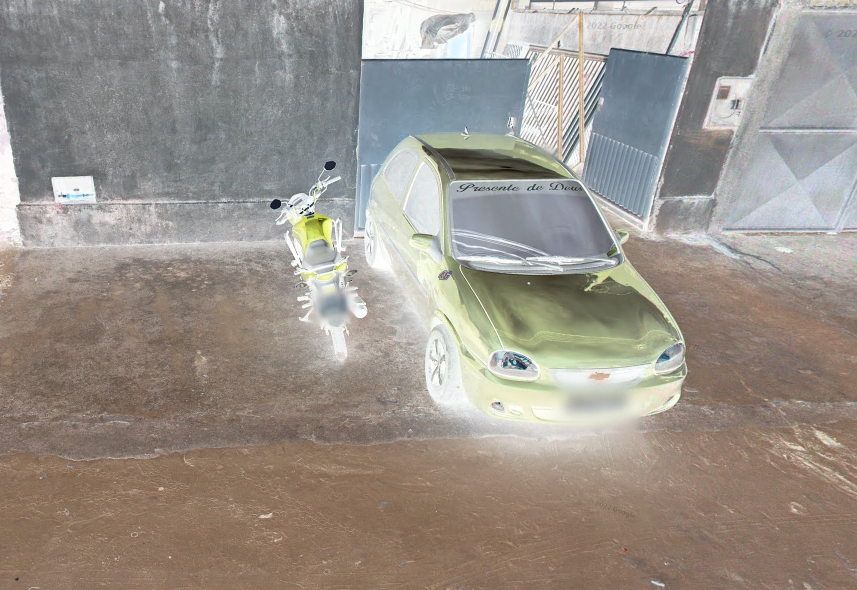car: (355, 99, 695, 447)
